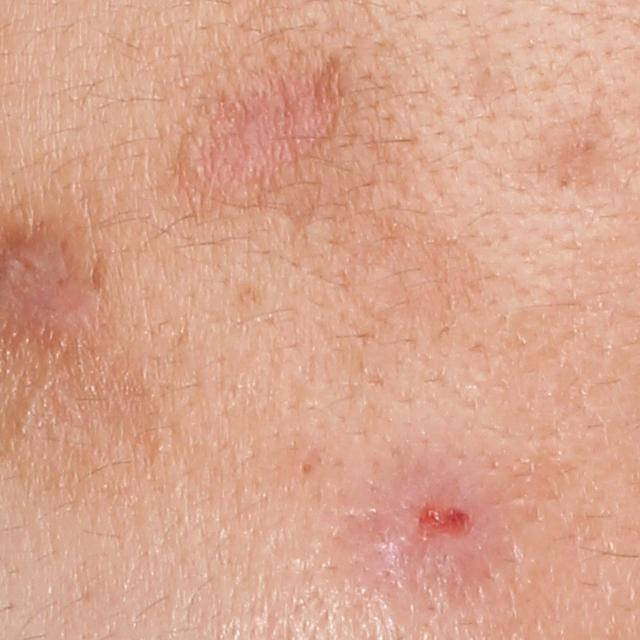comedo: (293, 455, 314, 479)
